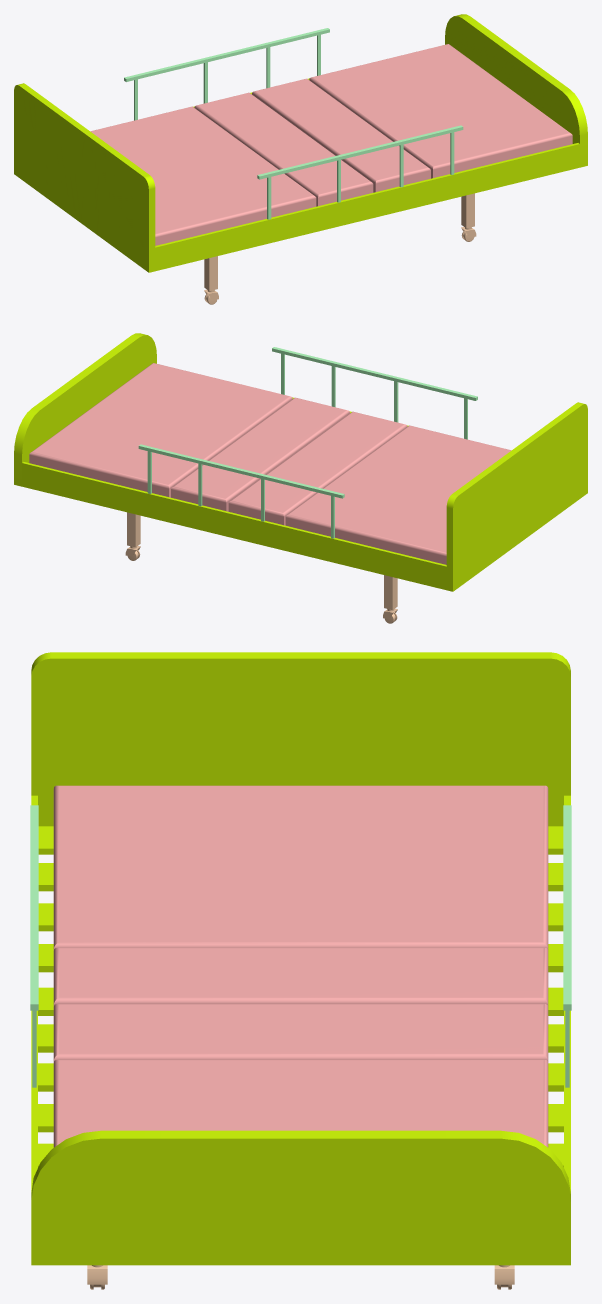
The model's file is Patient_Bed_Group.fbx.
3 renders of one model, top to bottom at view 1: azimuth 30°, elevation 25°; view 2: azimuth 150°, elevation 25°; view 3: azimuth 270°, elevation 25°, orthographic. The views are drawn at different scales.
Visible parts, largest first — view 1: Patient_Bed_Base, Patient_Bed_Bed_4, Patient_Bed_Bed_1, Patient_Bed_Bed_3, Patient_Bed_Bed_2, Patient_Bed_Handle, Patient_Bed_Handle1, Patient_Bed_Wheel1, Patient_Bed_Wheel2; view 2: Patient_Bed_Base, Patient_Bed_Bed_4, Patient_Bed_Bed_1, Patient_Bed_Bed_3, Patient_Bed_Bed_2, Patient_Bed_Handle1, Patient_Bed_Handle, Patient_Bed_Wheel, Patient_Bed_Wheel3; view 3: Patient_Bed_Base, Patient_Bed_Bed_1, Patient_Bed_Bed_4, Patient_Bed_Bed_2, Patient_Bed_Bed_3, Patient_Bed_Handle, Patient_Bed_Handle1.
Part boxes in pixels (left/top/right/bottom): Patient_Bed_Base: left=14, top=14, right=587, bottom=272; Patient_Bed_Bed_4: left=309, top=44, right=572, bottom=178; Patient_Bed_Bed_1: left=90, top=106, right=316, bottom=245; Patient_Bed_Bed_3: left=252, top=78, right=430, bottom=192; Patient_Bed_Bed_2: left=194, top=92, right=373, bottom=206; Patient_Bed_Handle: left=257, top=125, right=463, bottom=219; Patient_Bed_Handle1: left=124, top=28, right=329, bottom=120; Patient_Bed_Wheel1: left=461, top=193, right=476, bottom=241; Patient_Bed_Wheel2: left=204, top=256, right=218, bottom=304; Patient_Bed_Base: left=14, top=333, right=587, bottom=591; Patient_Bed_Bed_4: left=29, top=363, right=292, bottom=497; Patient_Bed_Bed_1: left=285, top=425, right=511, bottom=564; Patient_Bed_Bed_3: left=171, top=397, right=349, bottom=511; Patient_Bed_Bed_2: left=228, top=411, right=407, bottom=525; Patient_Bed_Handle1: left=138, top=444, right=344, bottom=538; Patient_Bed_Handle: left=272, top=347, right=477, bottom=439; Patient_Bed_Wheel: left=125, top=512, right=140, bottom=560; Patient_Bed_Wheel3: left=383, top=575, right=397, bottom=623; Patient_Bed_Base: left=31, top=652, right=570, bottom=1265; Patient_Bed_Bed_1: left=53, top=785, right=548, bottom=950; Patient_Bed_Bed_4: left=53, top=1060, right=548, bottom=1147; Patient_Bed_Bed_2: left=53, top=948, right=548, bottom=1006; Patient_Bed_Bed_3: left=53, top=1004, right=548, bottom=1062; Patient_Bed_Handle: left=30, top=805, right=38, bottom=1087; Patient_Bed_Handle1: left=563, top=805, right=571, bottom=1087.
Size of the model in its own units: 149 by 49.95 by 79.39.
